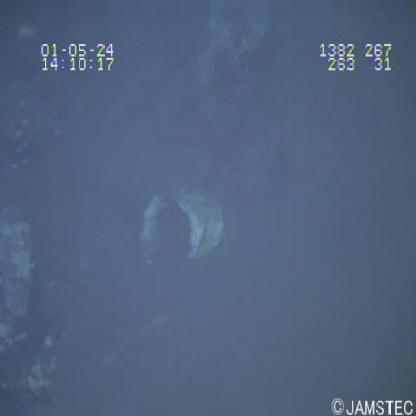Rác: (132, 183, 229, 275)
